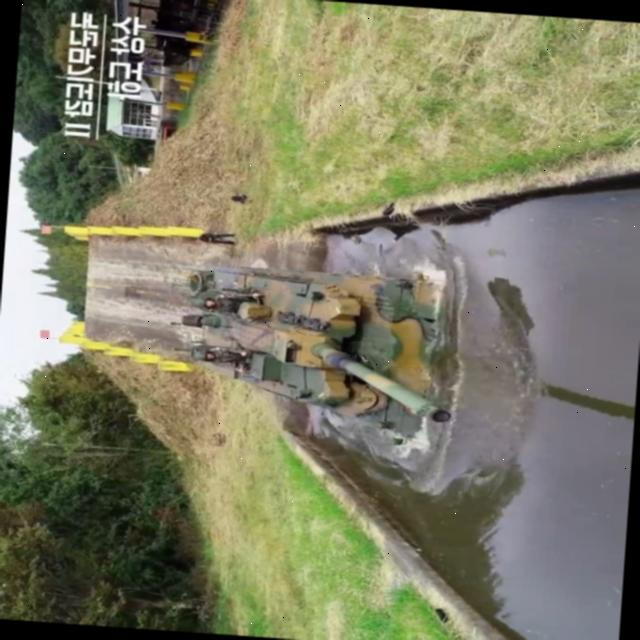korea tank: (160, 253, 462, 449)
